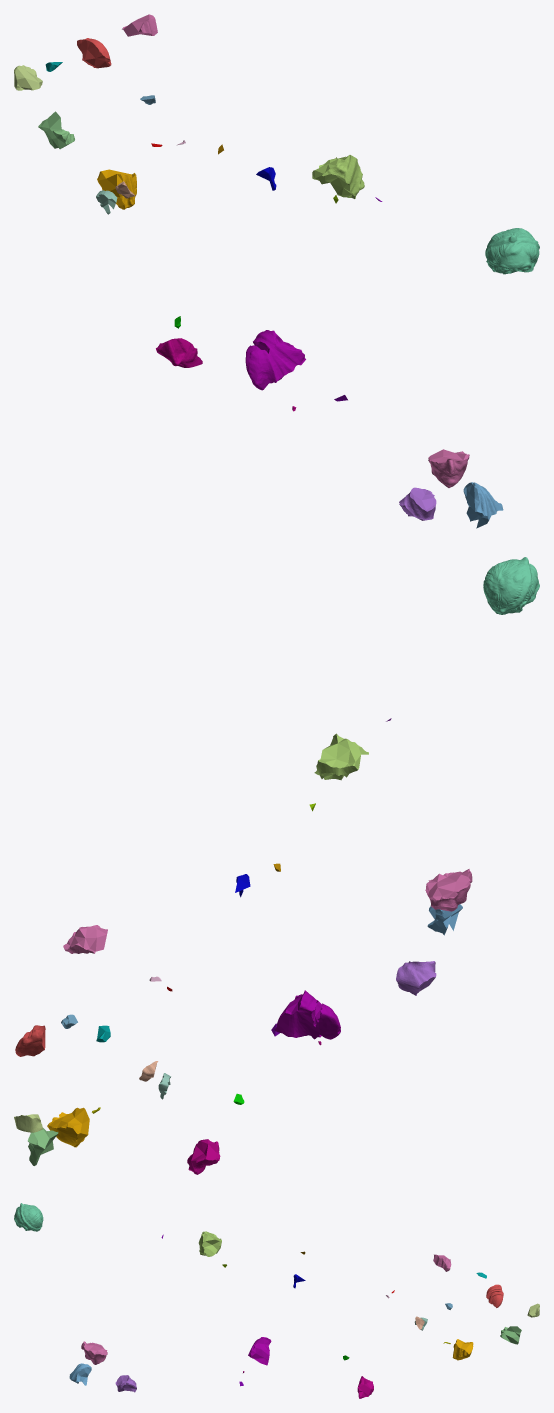
File: fractured_31_26pcs_transformed.glb
The picture shows the model from 3 angles, top to bottom: view 1: azimuth 30°, elevation 25°; view 2: azimuth 150°, elevation 25°; view 3: azimuth 270°, elevation 25°; orthographic projection. The views are drawn at different scales.
Visible parts, largest first — view 1: piece_2.obj, piece_6.obj, piece_9.obj, piece_4.obj, piece_7.obj, piece_3.obj, piece_8.obj, piece_0.obj, piece_1.obj, piece_11.obj; view 2: piece_6.obj, piece_2.obj, piece_9.obj, piece_4.obj, piece_0.obj, piece_8.obj, piece_5.obj, piece_3.obj, piece_1.obj; view 3: piece_6.obj, piece_9.obj, piece_2.obj, piece_4.obj, piece_0.obj, piece_7.obj, piece_1.obj, piece_11.obj, piece_8.obj, piece_3.obj.
Boxes of the visible parts, x1,y1,x2,y2 form: piece_2.obj: [245, 330, 305, 390]; piece_6.obj: [485, 228, 539, 274]; piece_9.obj: [312, 155, 364, 198]; piece_4.obj: [428, 449, 469, 487]; piece_7.obj: [463, 482, 503, 528]; piece_3.obj: [156, 338, 202, 367]; piece_8.obj: [399, 487, 436, 520]; piece_0.obj: [97, 169, 136, 209]; piece_1.obj: [77, 38, 111, 68]; piece_11.obj: [38, 111, 74, 149]; piece_6.obj: [483, 557, 539, 614]; piece_2.obj: [274, 990, 340, 1039]; piece_9.obj: [314, 733, 368, 780]; piece_4.obj: [425, 869, 472, 911]; piece_0.obj: [47, 1107, 89, 1147]; piece_8.obj: [396, 961, 436, 995]; piece_5.obj: [63, 925, 107, 953]; piece_3.obj: [187, 1139, 220, 1174]; piece_1.obj: [15, 1025, 45, 1056]; piece_6.obj: [14, 1203, 43, 1231]; piece_9.obj: [198, 1231, 221, 1256]; piece_2.obj: [248, 1337, 271, 1365]; piece_4.obj: [81, 1341, 107, 1364]; piece_0.obj: [452, 1339, 473, 1360]; piece_7.obj: [69, 1363, 91, 1385]; piece_1.obj: [486, 1284, 503, 1307]; piece_11.obj: [500, 1326, 521, 1344]; piece_8.obj: [115, 1375, 136, 1392]; piece_3.obj: [357, 1376, 373, 1398].
Size of the model in its own units: 0.7324 by 2.8 by 6.93.
